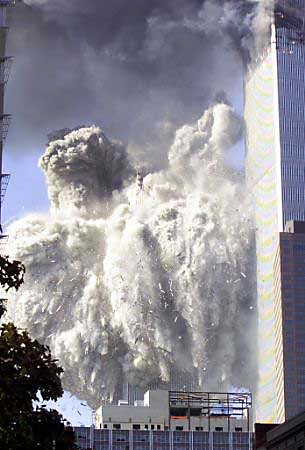building: (231, 1, 305, 406), (74, 389, 253, 450)
smoke: (21, 101, 248, 396)
